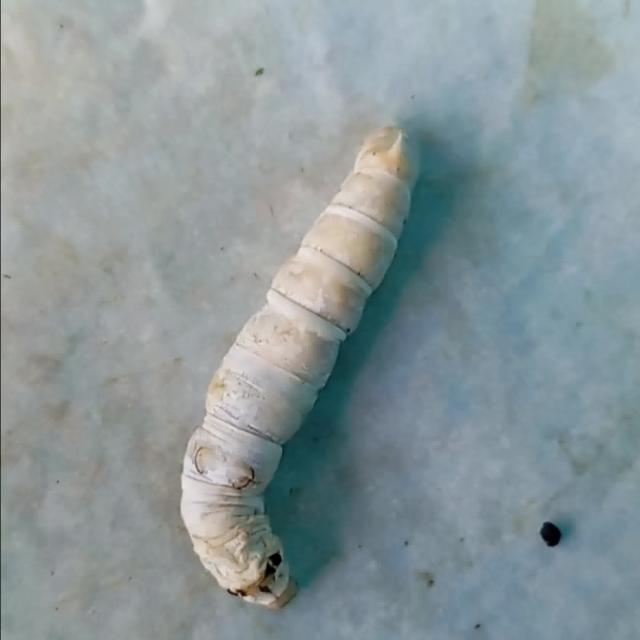Grasserie: (167, 112, 421, 624)
